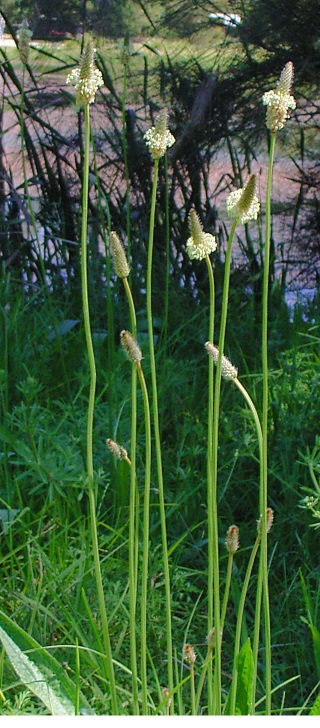buckhorn plantain: (27, 42, 302, 718)
